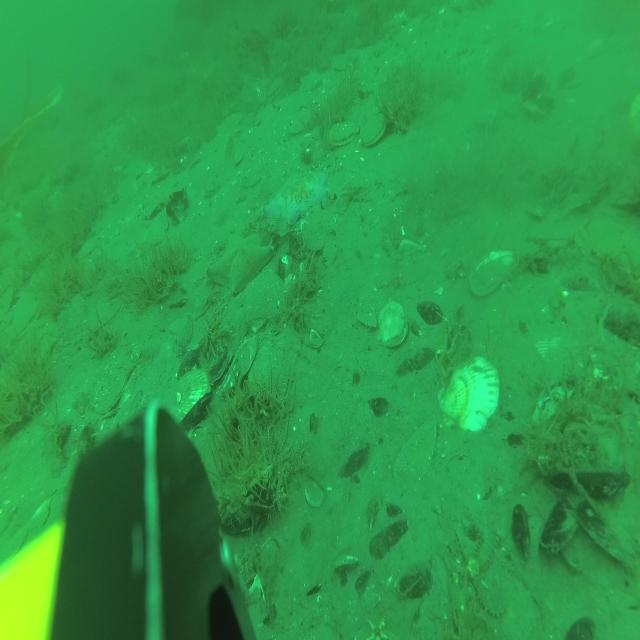scallop: (436, 359, 498, 432), (162, 372, 210, 433), (468, 248, 520, 294), (95, 357, 134, 414), (376, 300, 406, 348), (360, 111, 386, 148), (328, 120, 358, 146)
starfish: (206, 234, 274, 292), (263, 170, 330, 218)
